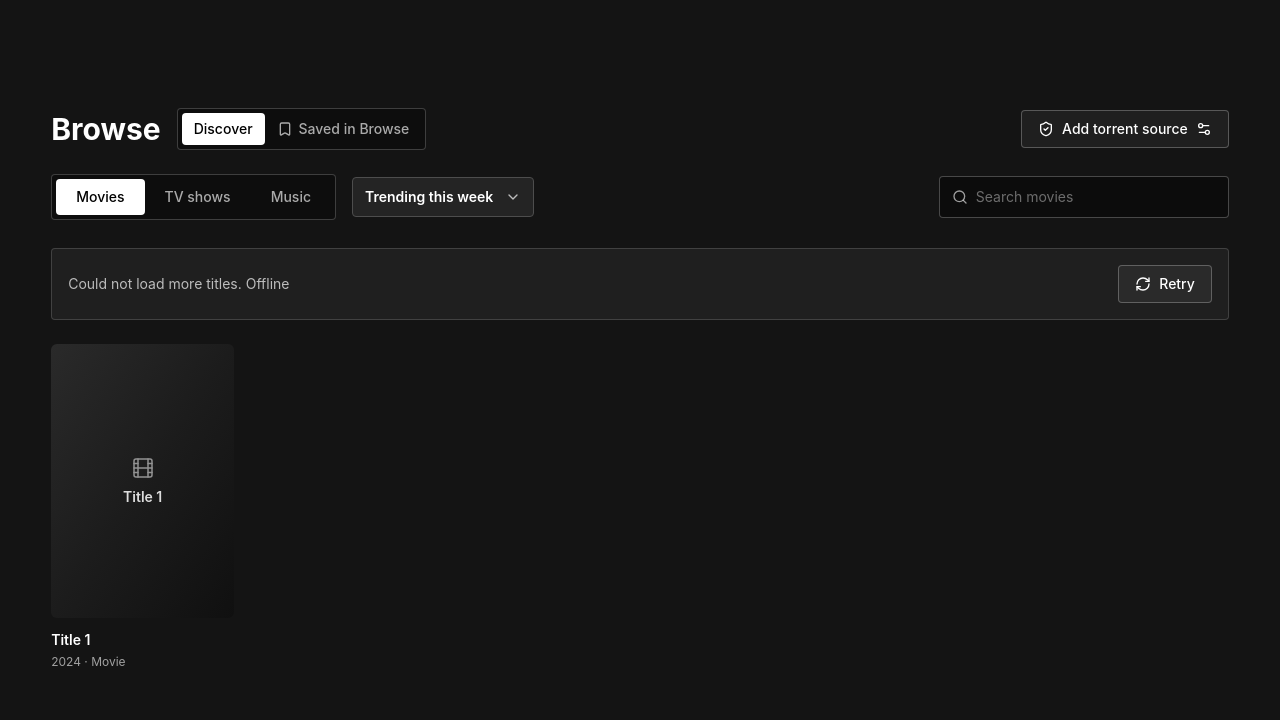
keeps loaded cards after an error and retries the failed page without skipping it
The image size is (1280, 720).
Expected: the message "Could not load more titles. Offline Retry" is shown, 51,248 -> 1229,320
Expected: the button with aria-label "View Title 1" is shown, 51,344 -> 234,670
Step 1. Click the button "Retry" → [1165, 284], box 1118,265 -> 1212,303
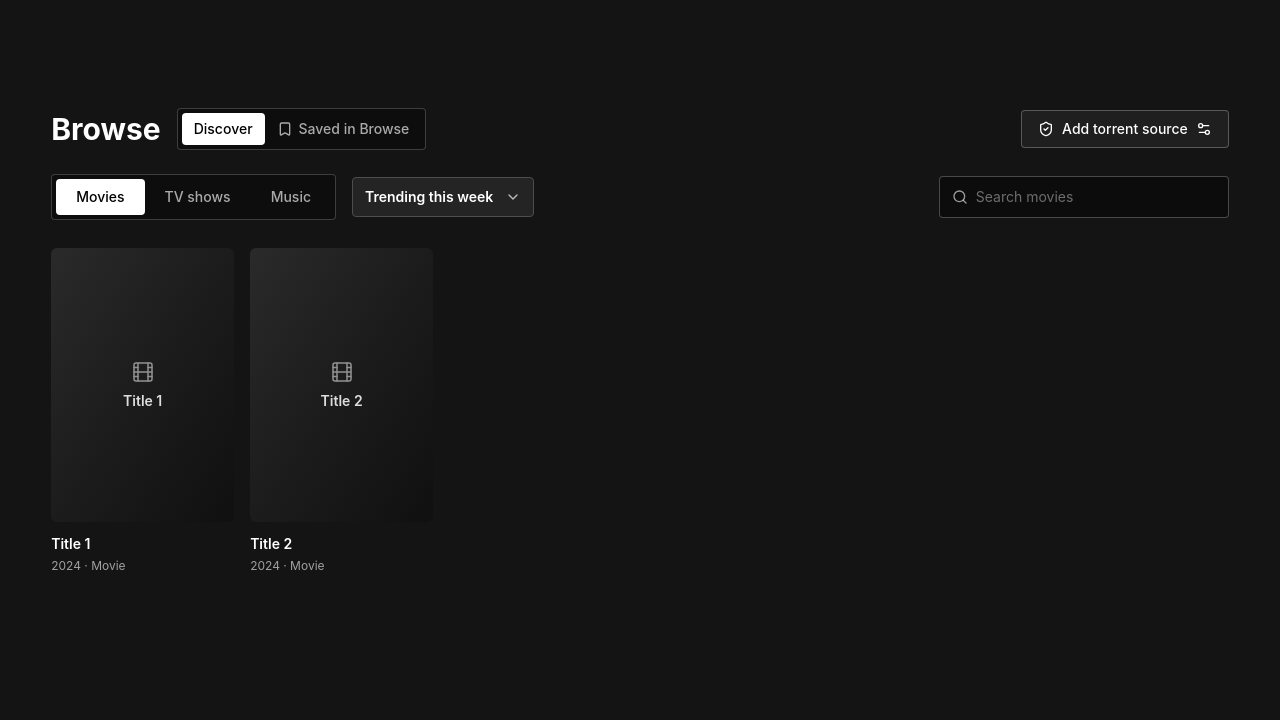
Now the button with aria-label "View Title 2" is shown, box 250,248 -> 433,574
